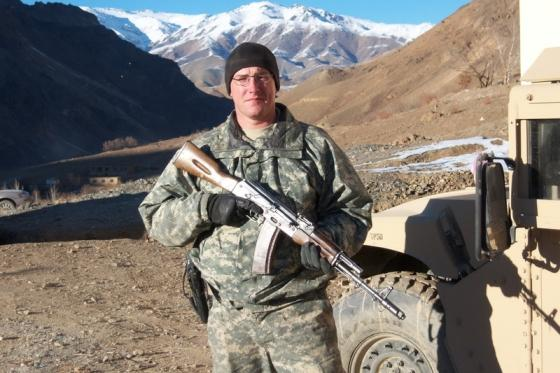gun: (171, 141, 406, 319)
